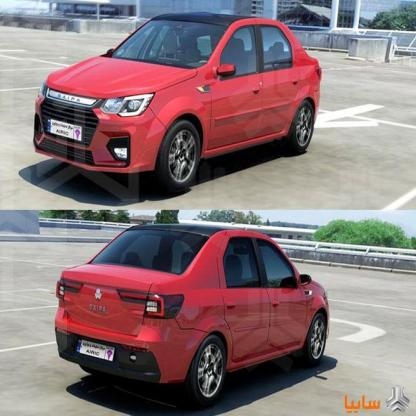Car: (26, 18, 322, 189), (53, 223, 330, 404)
